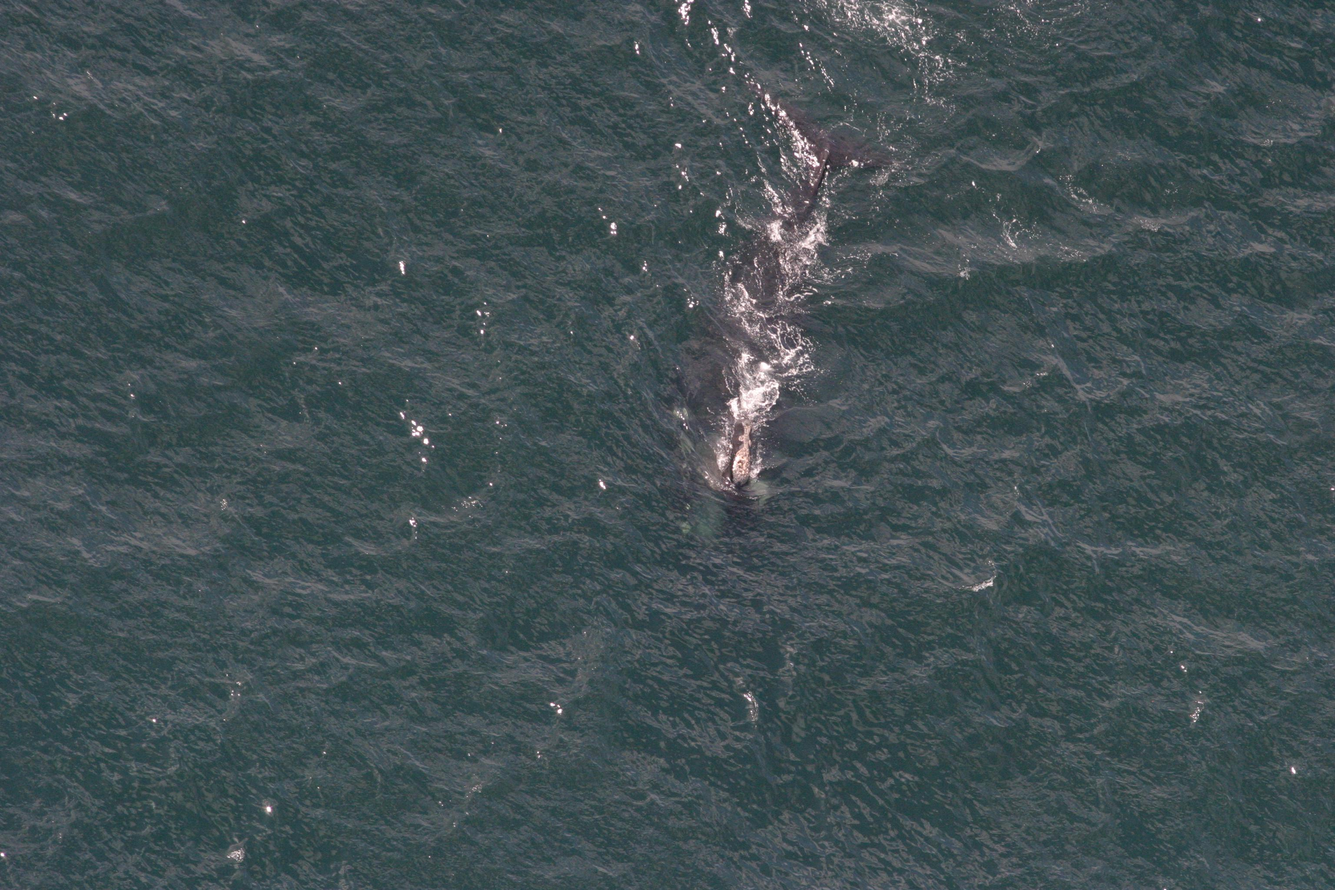whale: (669, 86, 934, 558)
